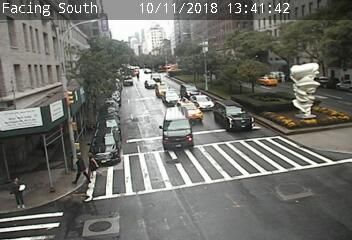car: (162, 107, 193, 149), (89, 127, 120, 167), (214, 100, 254, 131), (175, 100, 203, 123), (190, 95, 215, 111), (180, 83, 201, 100), (162, 91, 181, 105), (255, 76, 278, 86), (156, 82, 169, 98), (144, 80, 158, 89)
